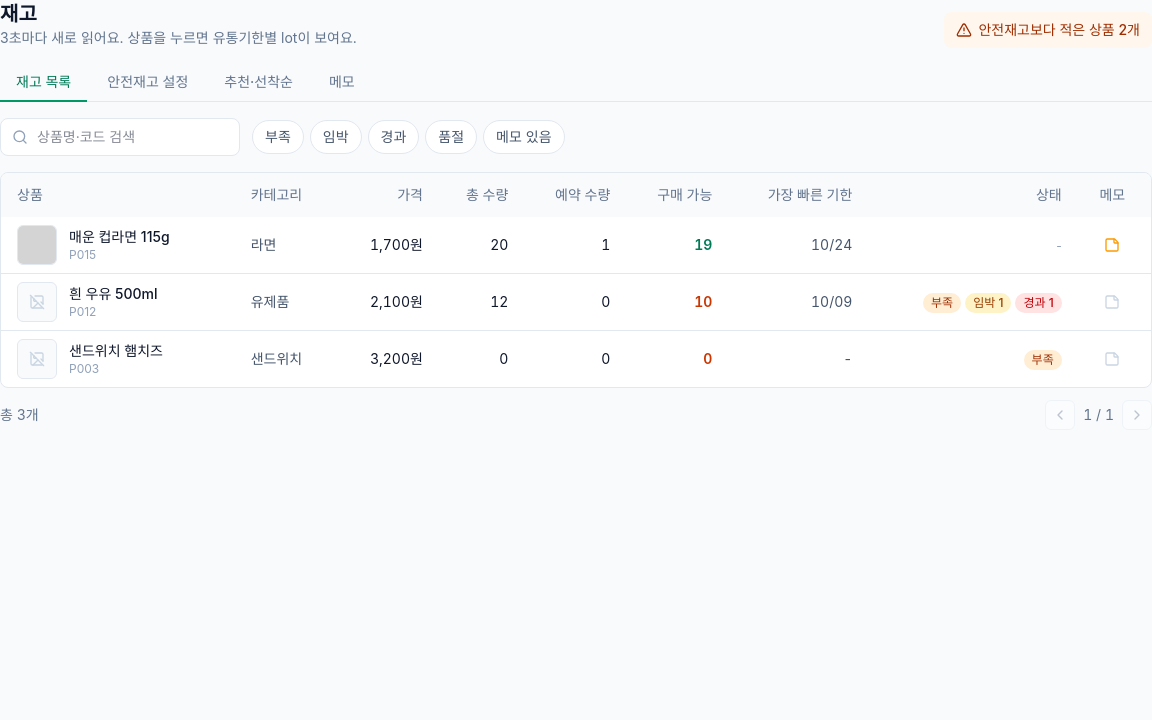
Test: lot 상세 패널 (S-11) › lot 옆 조정 버튼을 누르면 그 lot 의 조정 모달이 열린다 (S-14)
The image size is (1152, 720).
Click the text "흰 우유 500ml".
click(113, 294)  # box [69,284,158,304]
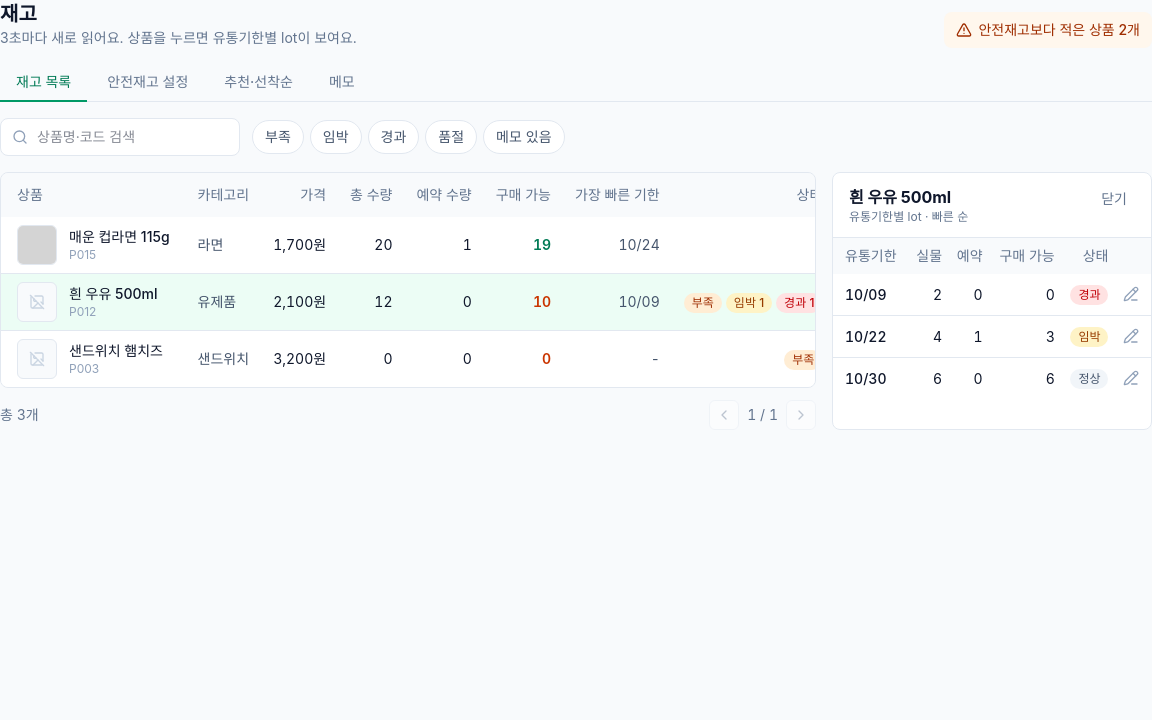
Click the button named "10/30 lot 조정".
click(1131, 378)  # box [1119,366,1143,390]
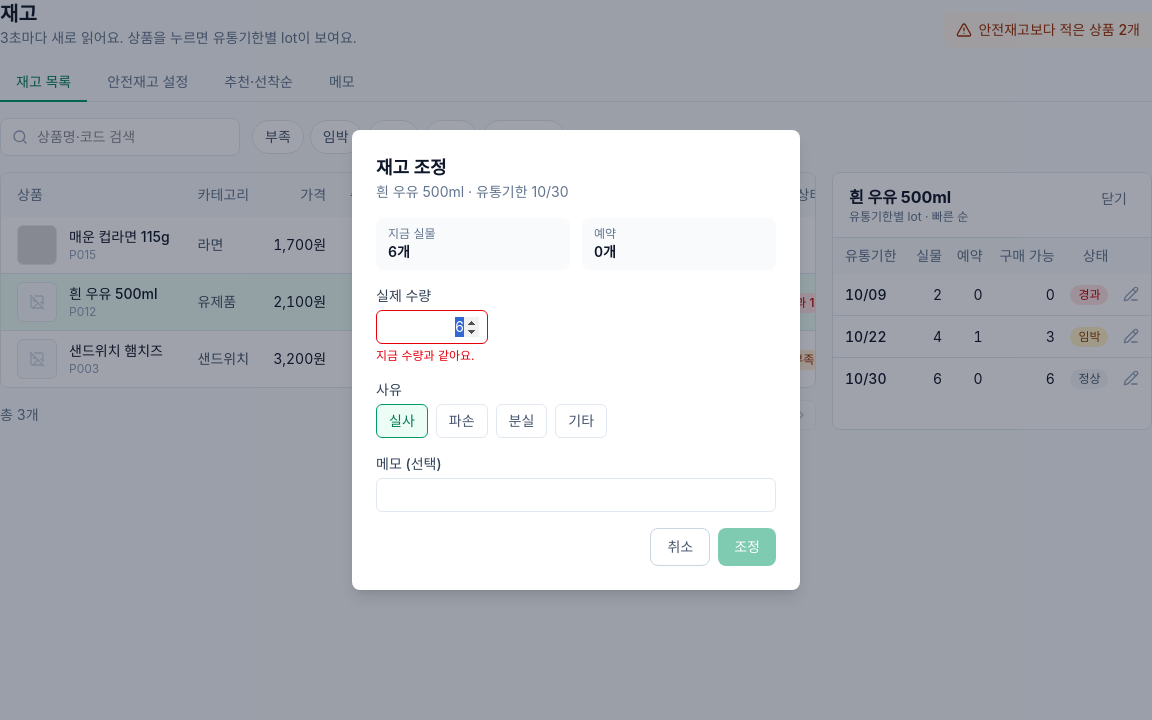
Expected: the text "흰 우유 500ml · 유통기한 10/30" is shown, [376,183,569,200]
Expected: the number field labelled "실제 수량" holds "6", [376,310,488,344]
Click the button "취소".
click(680, 547)  # box [650,528,710,566]
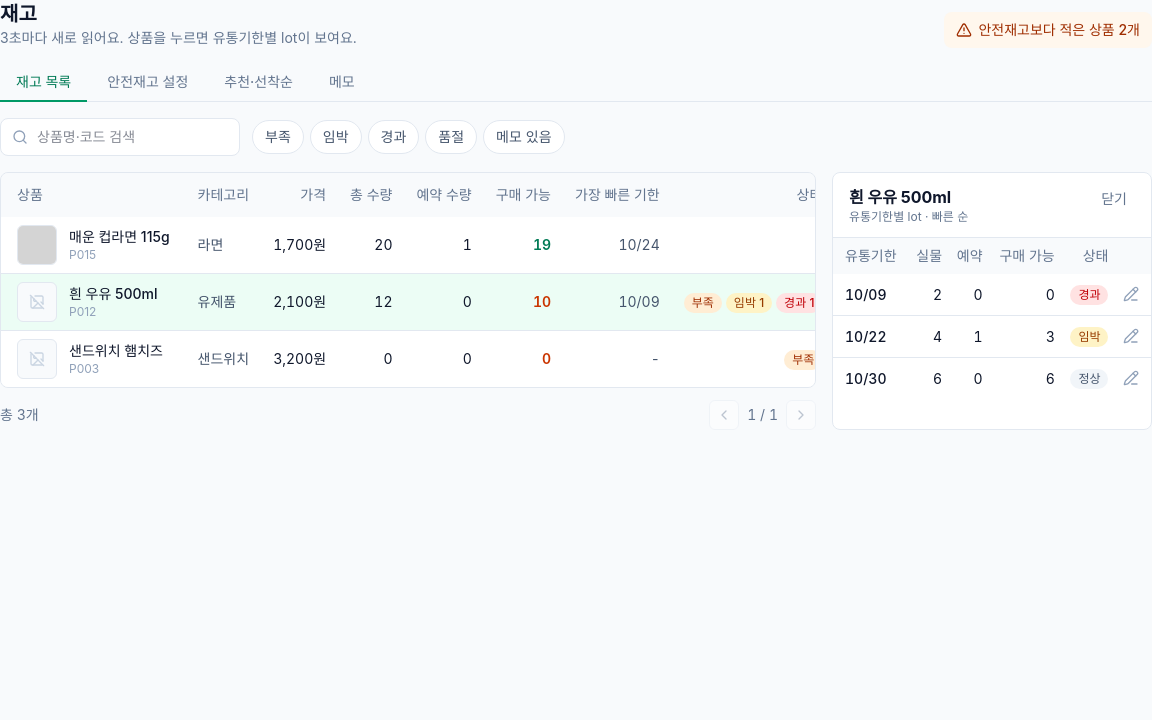
Expected: the dialog is gone
